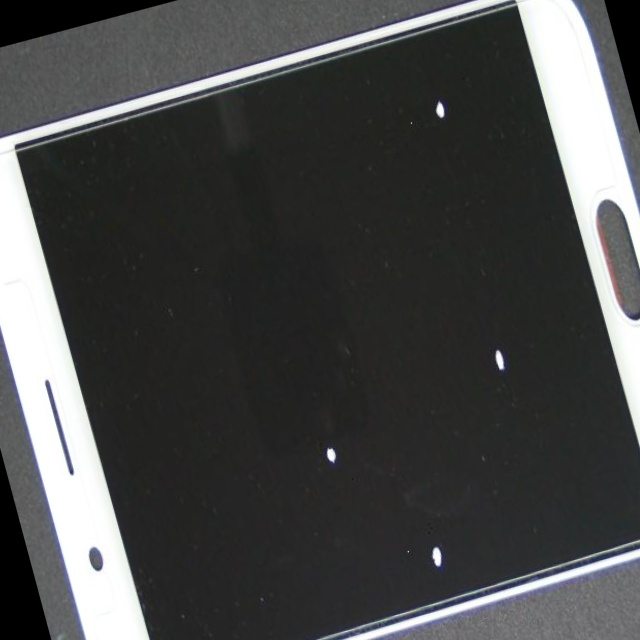stain: (188, 113, 640, 640), (163, 176, 638, 640), (94, 188, 538, 640), (160, 1, 640, 334)
